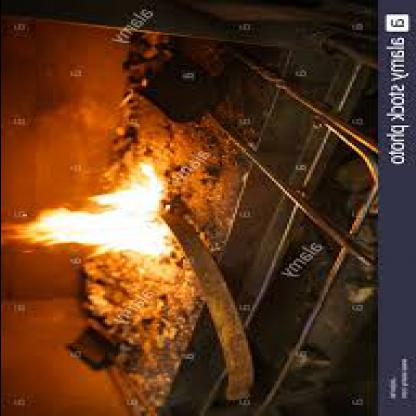Fire: (9, 203, 162, 255)
